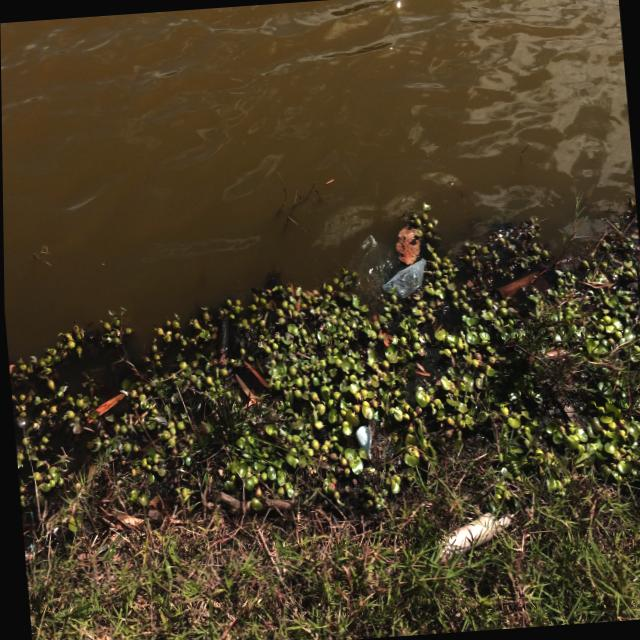Plastic: (424, 494, 531, 576), (376, 256, 430, 302), (349, 415, 378, 465)
